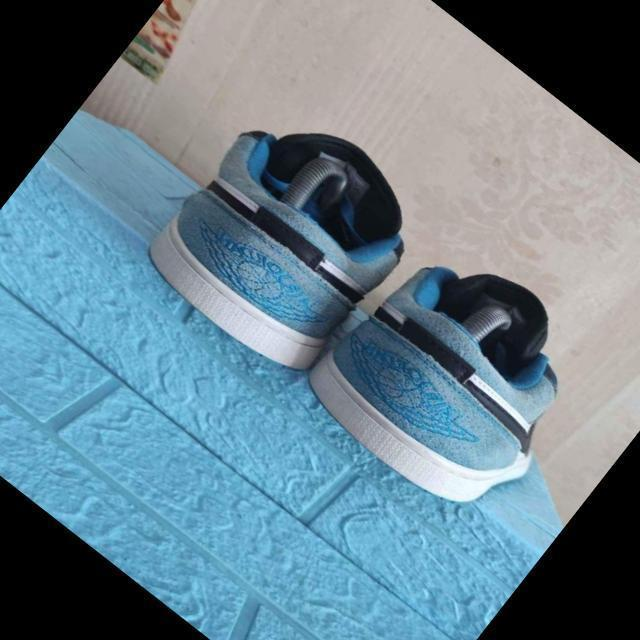nike fake jordan 1: (286, 209, 620, 542), (126, 77, 447, 400)
